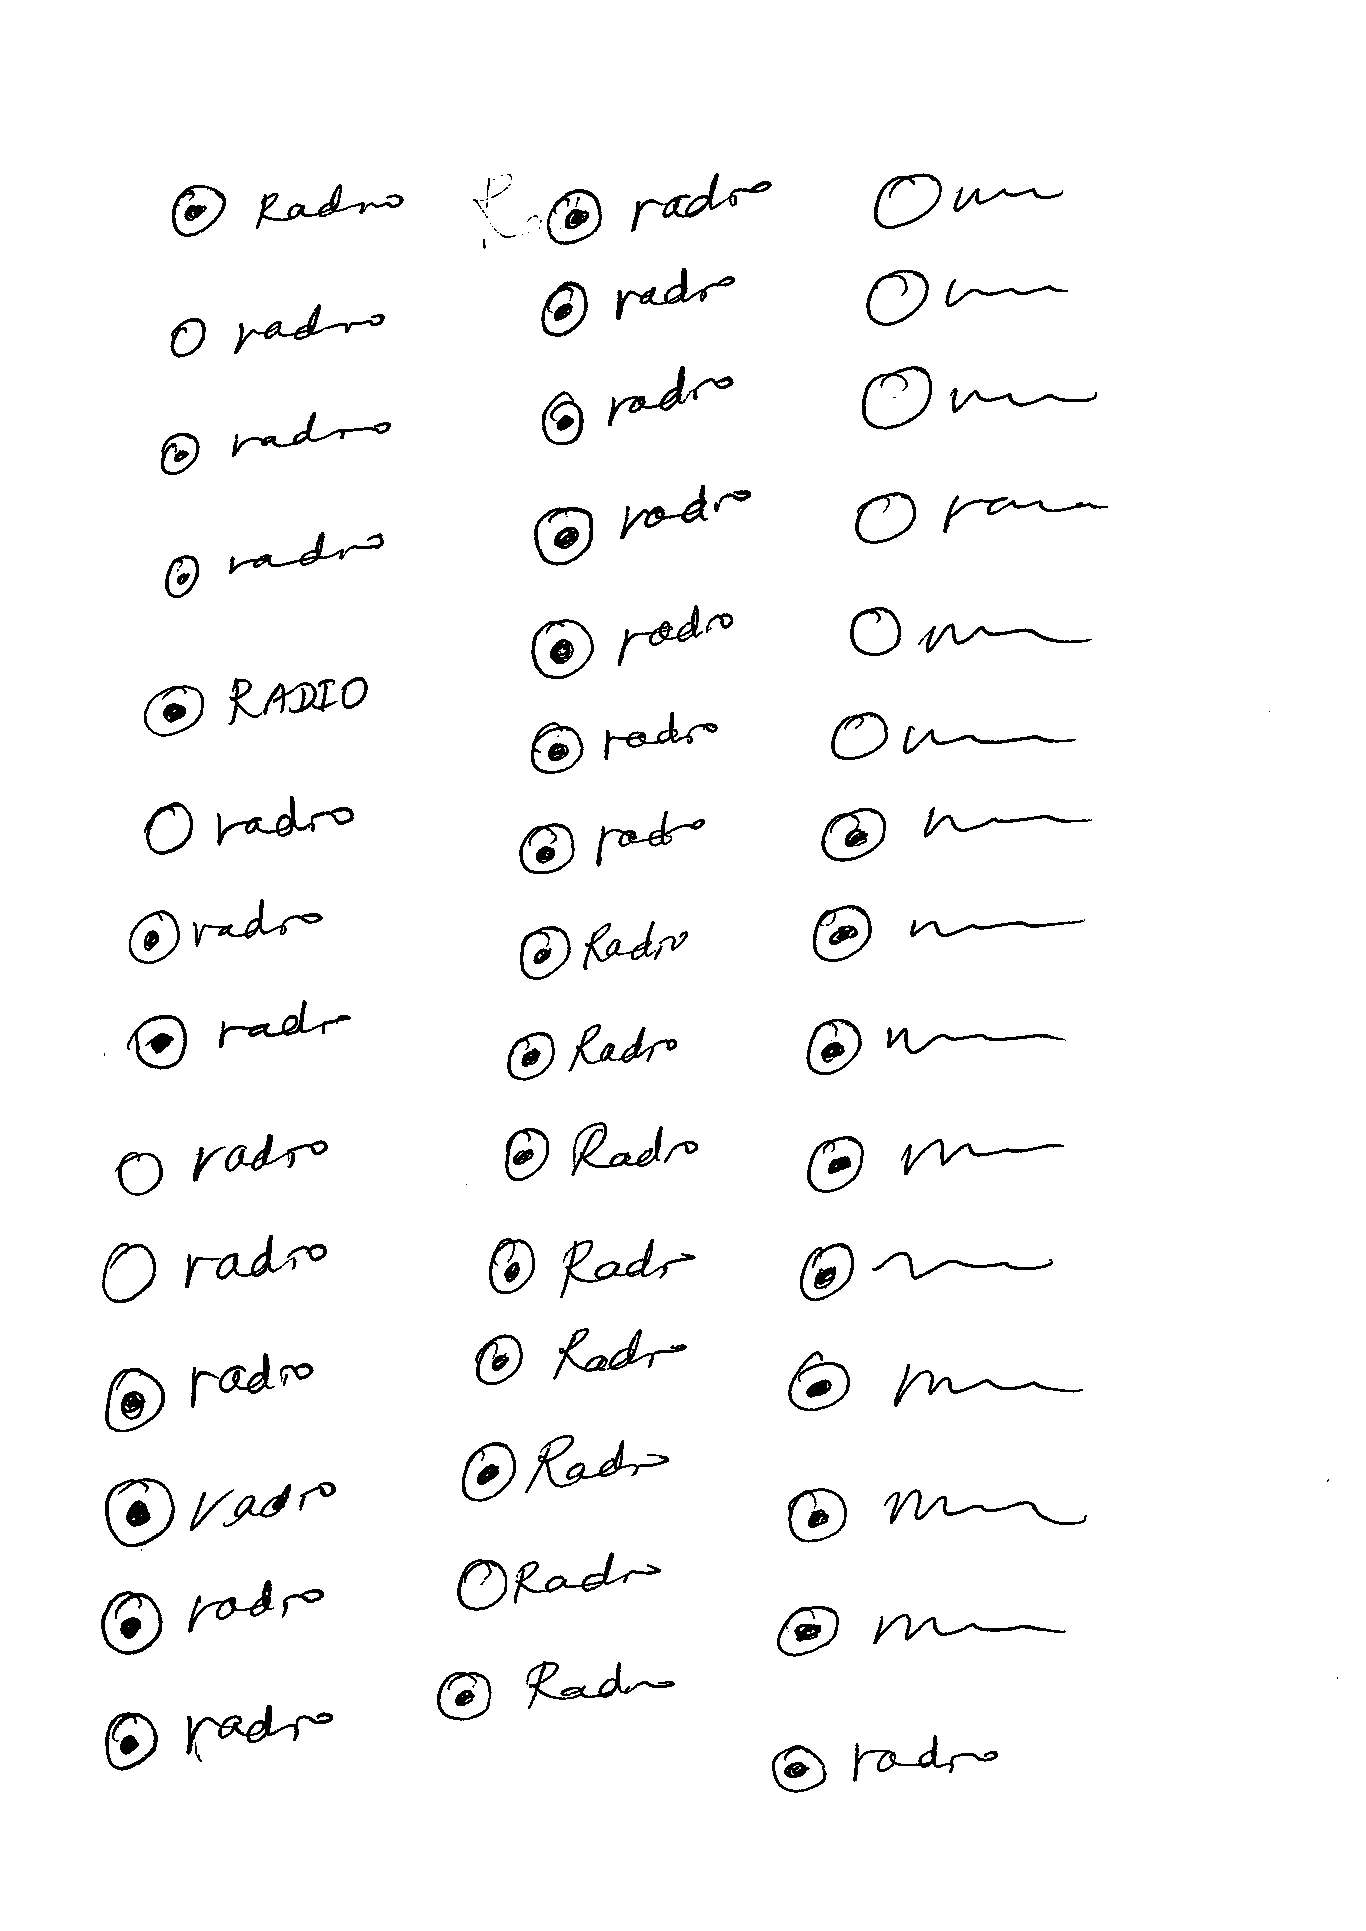Radio Button: (786, 1482, 1091, 1544), (531, 483, 755, 565), (788, 1350, 1079, 1412), (103, 1473, 337, 1550), (773, 1598, 1066, 1659), (98, 1578, 324, 1656), (102, 1351, 315, 1433), (126, 997, 355, 1072), (529, 600, 738, 680), (544, 173, 778, 244), (795, 1241, 1056, 1304), (803, 1133, 1064, 1195), (435, 1656, 677, 1723), (806, 1016, 1063, 1078), (101, 1235, 333, 1303), (460, 1430, 671, 1504), (160, 410, 393, 476), (540, 364, 733, 444), (163, 529, 384, 599), (103, 1706, 336, 1770), (142, 673, 370, 736), (540, 265, 738, 337), (170, 180, 405, 240), (114, 1133, 331, 1196), (472, 1323, 689, 1387), (169, 297, 386, 359), (129, 897, 327, 964), (517, 804, 705, 872), (145, 793, 355, 853), (488, 1235, 696, 1295), (772, 1737, 1002, 1792), (529, 710, 721, 773), (503, 1119, 699, 1181), (517, 914, 695, 980), (457, 1552, 662, 1609), (503, 1019, 682, 1082)
